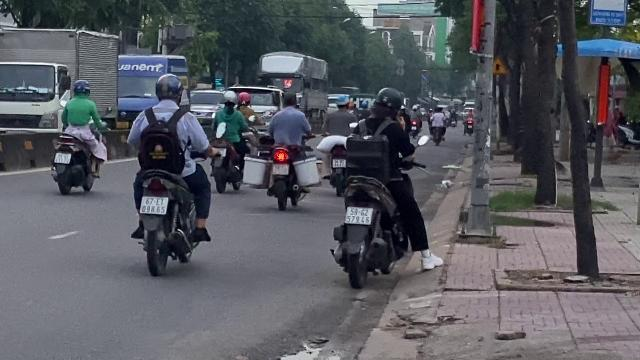helmet: (370, 87, 402, 117), (153, 73, 183, 103), (70, 79, 90, 97)
licenseplate: (140, 196, 168, 214), (346, 206, 372, 224), (54, 152, 70, 162), (272, 164, 288, 174)
motorcyclist: (331, 84, 431, 286), (124, 72, 214, 274), (48, 80, 106, 194), (262, 90, 316, 210)
nohelmet: (280, 90, 298, 108)
